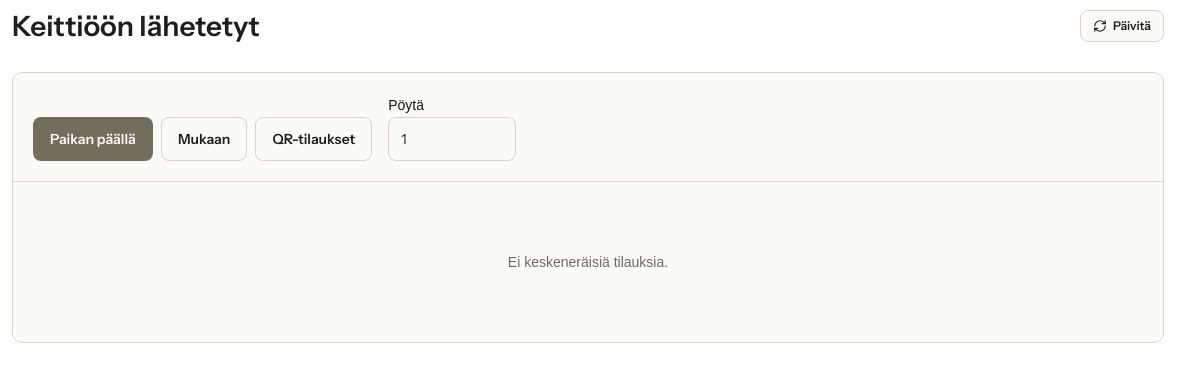
Test: puts QR next to Mukaan in the same panel and preserves Counter table filters when switching
Expected: the buttons read "Paikan päällä", "Mukaan", "QR-tilaukset", in this order, [33,117,153,161]; [161,117,247,161]; [255,117,372,161]
Replace the text in the number field labelled "Pöytä" with "4" at (452, 139), box [388,117,516,161]
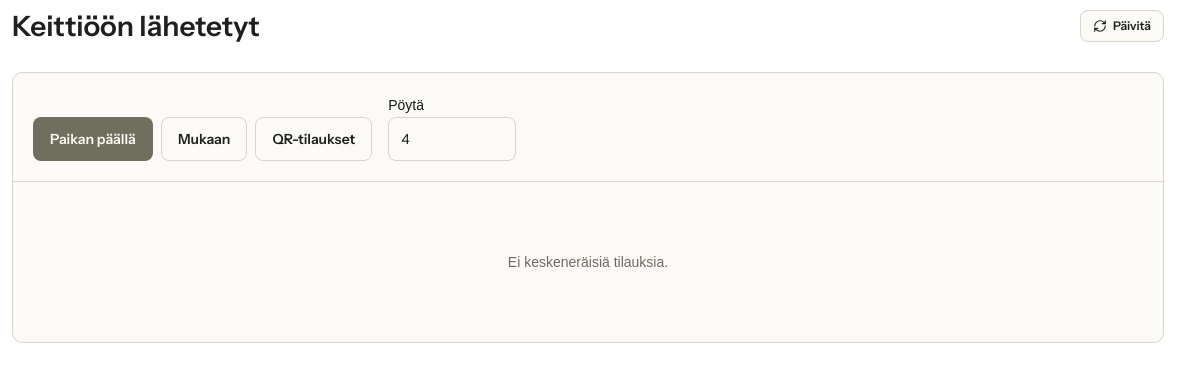
Click the button "QR-tilaukset" at (314, 139), box [255,117,372,161]
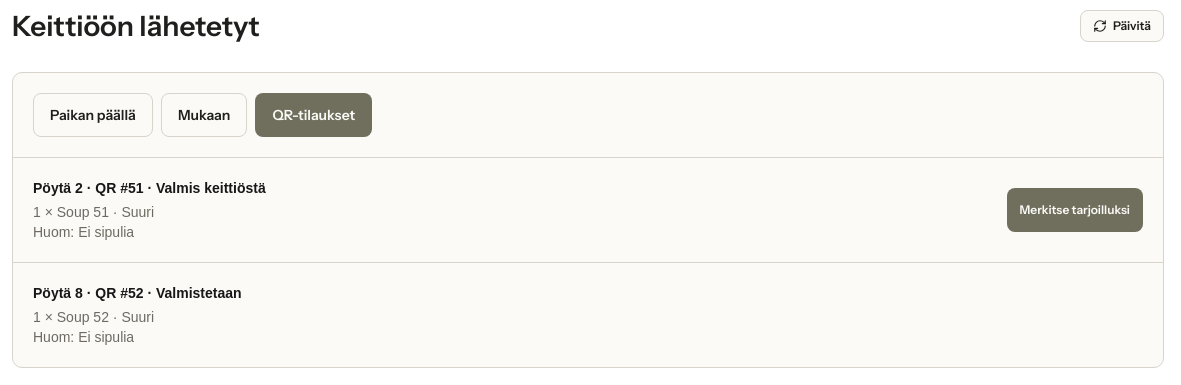
Expected: the heading "Pöytä 2 · QR #51 · Valmis keittiöstä" is shown, [33,180,266,196]
Expected: the heading "Pöytä 8 · QR #52 · Valmistetaan" is shown, [33,285,242,301]
Expected: the list item "1 × Soup 51 · Suuri Huom: Ei sipulia" is shown, [33,204,154,240]
Click the button "Paikan päällä" at (93, 115), box [33,93,153,137]
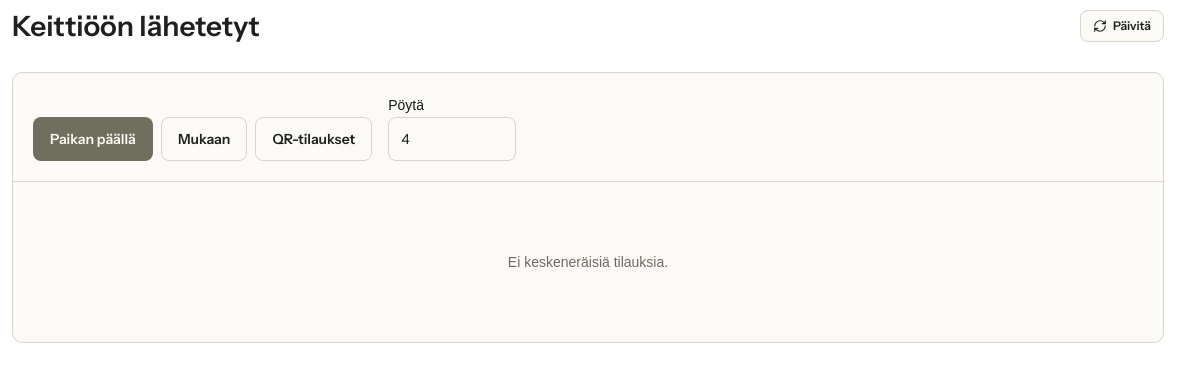
Expected: the number field labelled "Pöytä" holds "4", [388,117,516,161]
